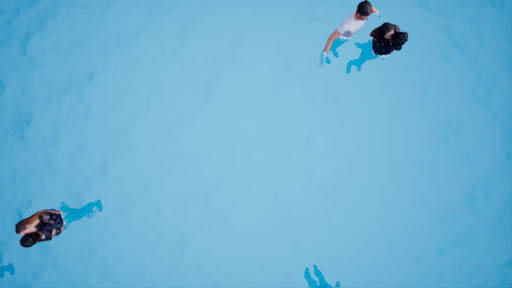person: (316, 1, 414, 79), (13, 200, 117, 247)
